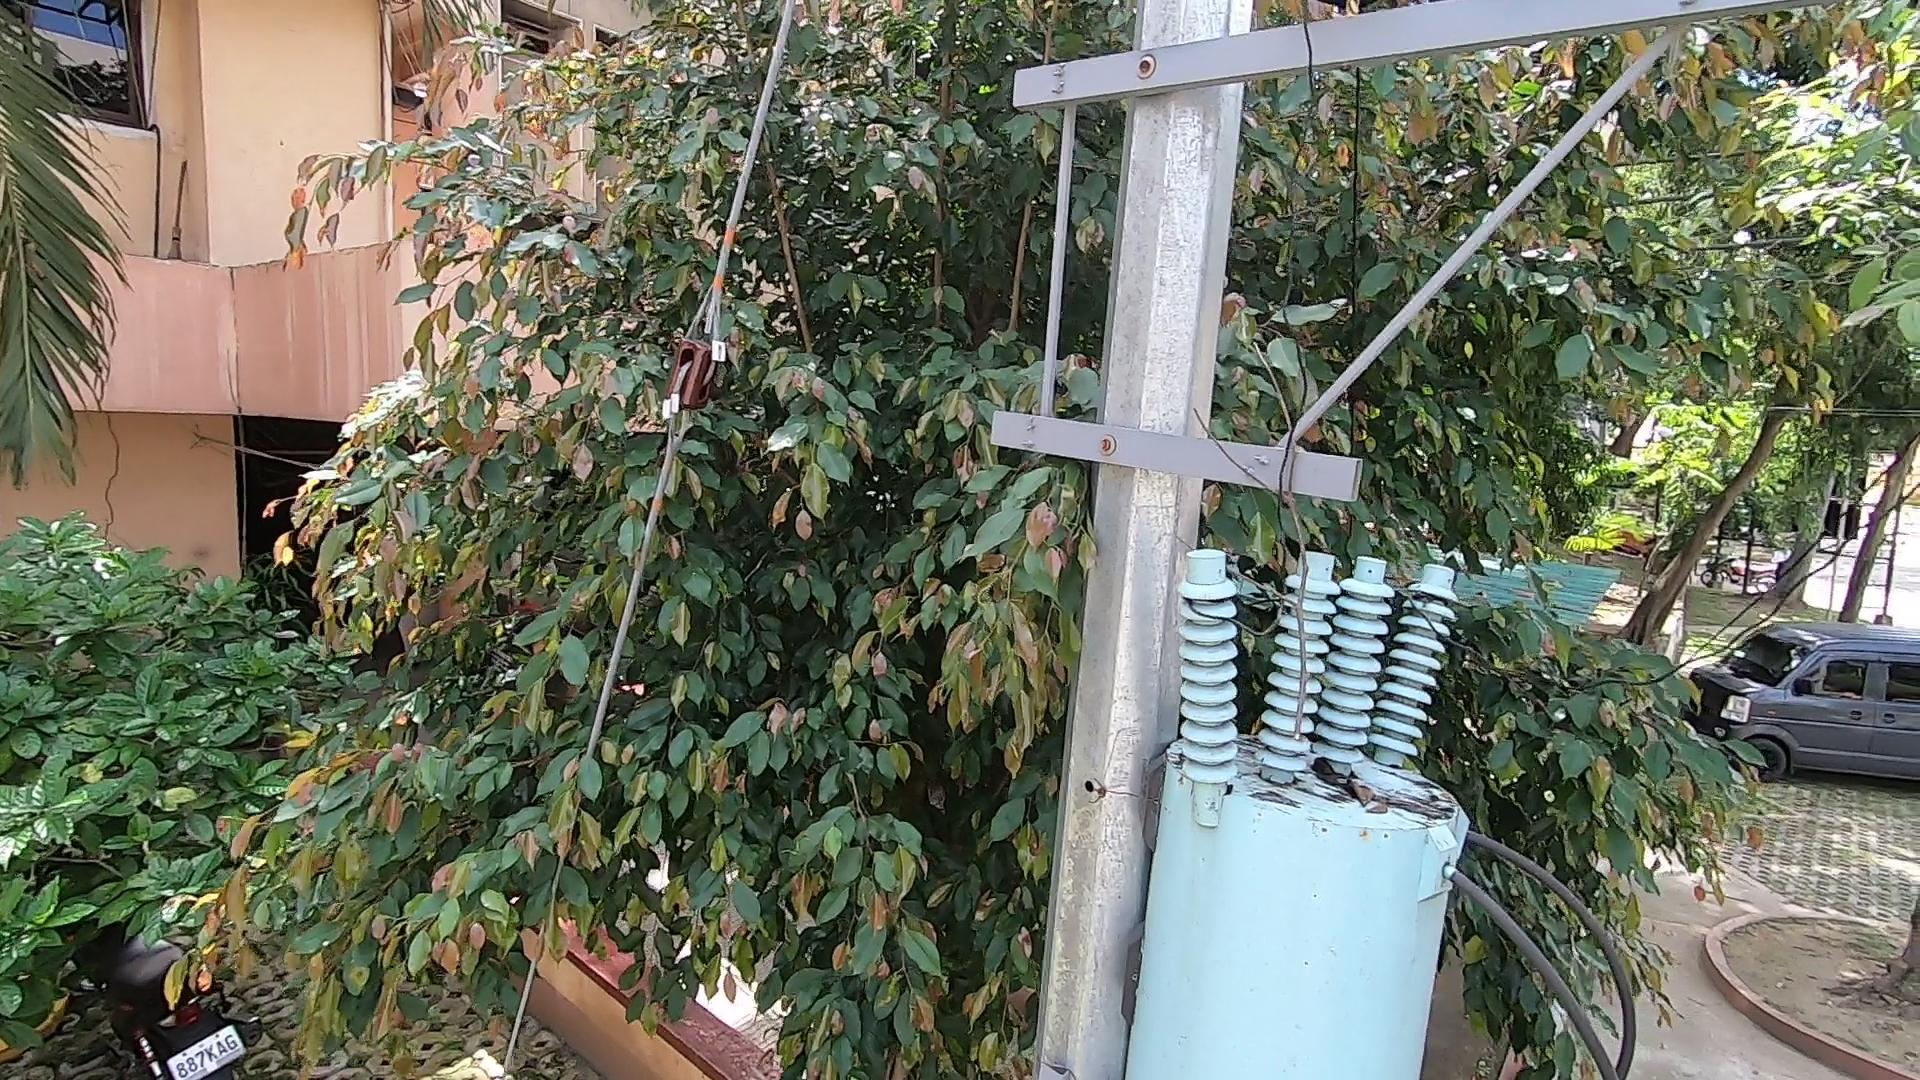leaf: (1311, 748, 1383, 818)
tree branch: (1201, 348, 1349, 742)
